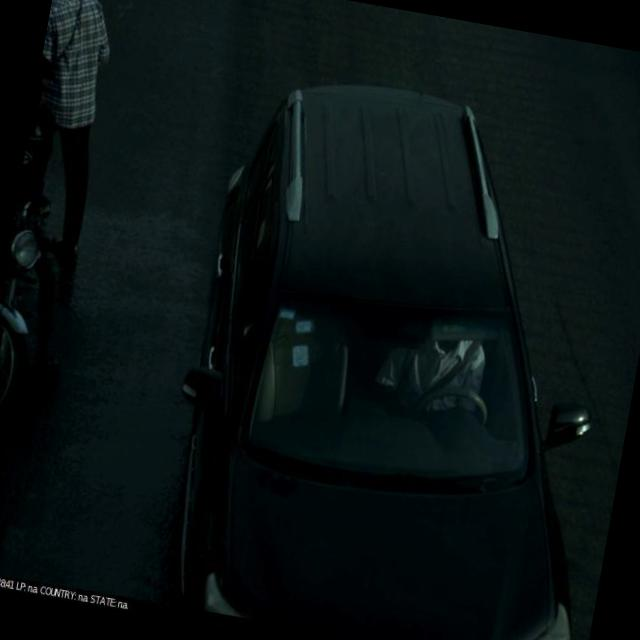person_with_seatbelt: (380, 302, 516, 459)
